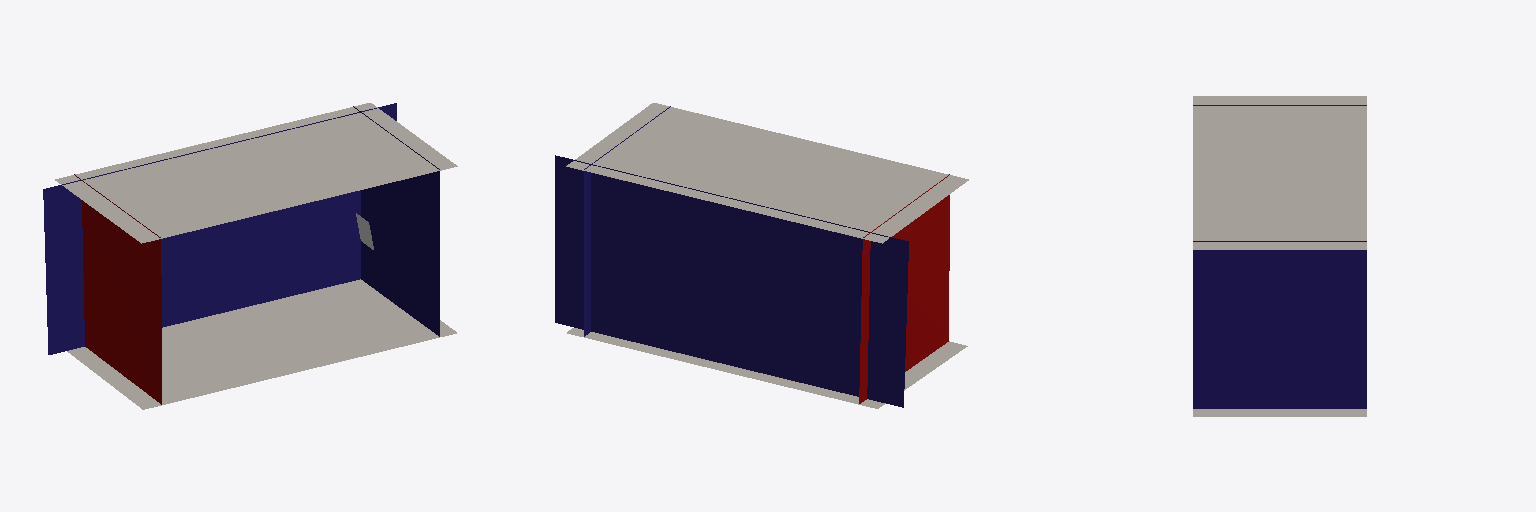
Rendered from cornellBox_for_blueno1_1.obj.
The picture shows the model from 3 angles: view 1: azimuth 30°, elevation 25°; view 2: azimuth 150°, elevation 25°; view 3: azimuth 270°, elevation 25°; orthographic projection.
Parts seen in each view (by area): view 1: CornellBox_Empty_Squashed:ceiling, CornellBox_Empty_Squashed:backWall, CornellBox_Empty_Squashed:floor, CornellBox_Empty_Squashed:leftWall, CornellBox_Empty_Squashed:rightWall; view 2: CornellBox_Empty_Squashed:backWall, CornellBox_Empty_Squashed:ceiling, CornellBox_Empty_Squashed:leftWall, CornellBox_Empty_Squashed:floor, CornellBox_Empty_Squashed:rightWall; view 3: CornellBox_Empty_Squashed:rightWall, CornellBox_Empty_Squashed:ceiling, CornellBox_Empty_Squashed:floor.
Part boxes in pixels (left/top/right/bottom): CornellBox_Empty_Squashed:ceiling: left=55, top=103, right=457, bottom=243; CornellBox_Empty_Squashed:backWall: left=43, top=103, right=396, bottom=354; CornellBox_Empty_Squashed:floor: left=67, top=279, right=456, bottom=409; CornellBox_Empty_Squashed:leftWall: left=74, top=174, right=161, bottom=404; CornellBox_Empty_Squashed:rightWall: left=353, top=106, right=439, bottom=336; CornellBox_Empty_Squashed:backWall: left=555, top=155, right=908, bottom=407; CornellBox_Empty_Squashed:ceiling: left=566, top=103, right=968, bottom=243; CornellBox_Empty_Squashed:leftWall: left=859, top=174, right=949, bottom=403; CornellBox_Empty_Squashed:floor: left=567, top=328, right=967, bottom=408; CornellBox_Empty_Squashed:rightWall: left=584, top=106, right=670, bottom=336; CornellBox_Empty_Squashed:rightWall: left=1193, top=241, right=1366, bottom=408; CornellBox_Empty_Squashed:ceiling: left=1193, top=96, right=1366, bottom=249; CornellBox_Empty_Squashed:floor: left=1193, top=409, right=1366, bottom=416.
Bounding box in the file's own units: 5.76 × 2.61 × 2.46.